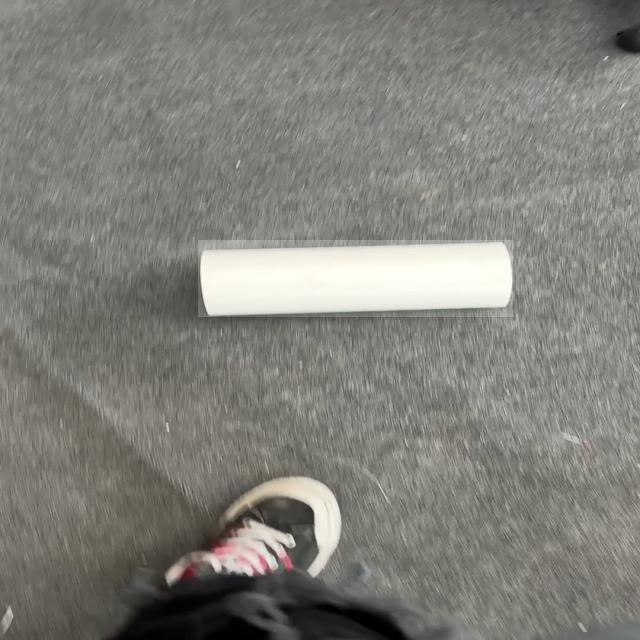Coral: (198, 240, 513, 317)
